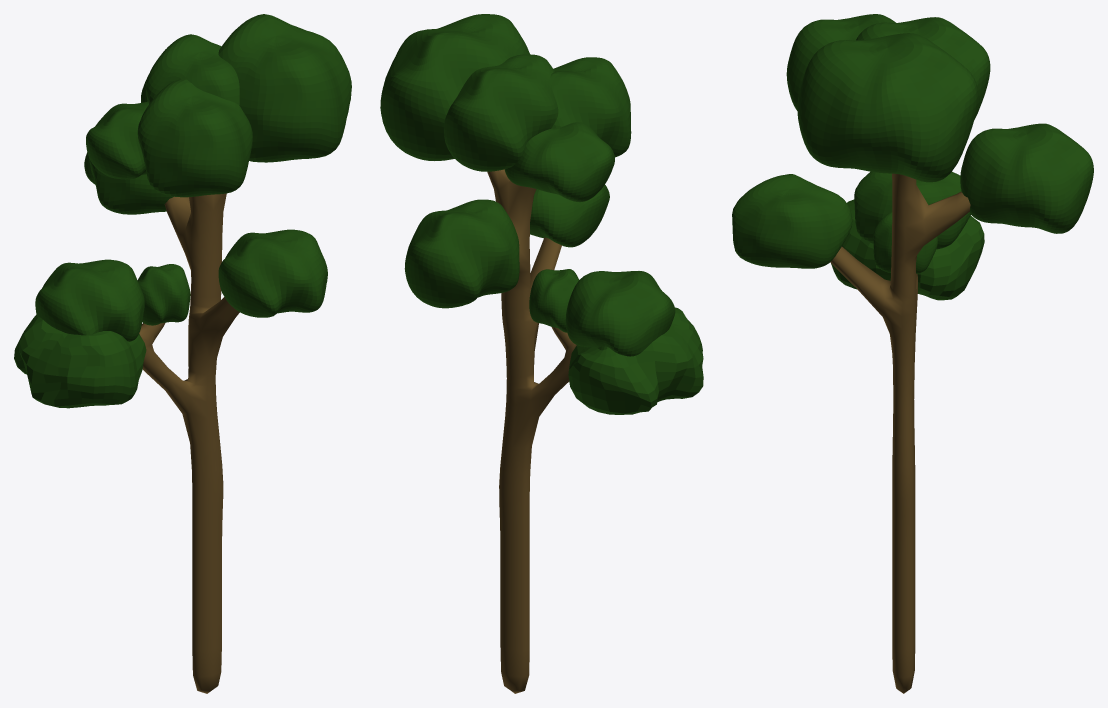
Rendered from tree4.gltf.
The picture shows the model from 3 angles, left to right: view 1: azimuth 30°, elevation 25°; view 2: azimuth 150°, elevation 25°; view 3: azimuth 270°, elevation 25°; orthographic projection. The views are drawn at different scales.
Visible parts, largest first — view 1: Sphere.006, Sphere.007; view 2: Sphere.006, Sphere.007; view 3: Sphere.006, Sphere.007.
Part boxes in pixels (<box>): Sphere.006: <box>35,14,351,693</box>; Sphere.007: <box>14,314,146,408</box>; Sphere.006: <box>380,14,675,693</box>; Sphere.007: <box>568,307,703,414</box>; Sphere.006: <box>732,14,1093,693</box>; Sphere.007: <box>831,199,984,300</box>.
Bounding box in the file's own units: 5.7 × 11.57 × 5.54.
